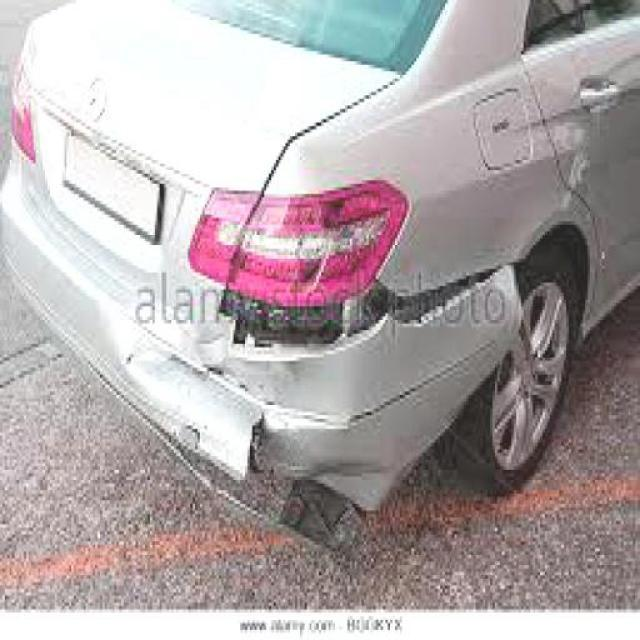car damage: (105, 247, 529, 568)
